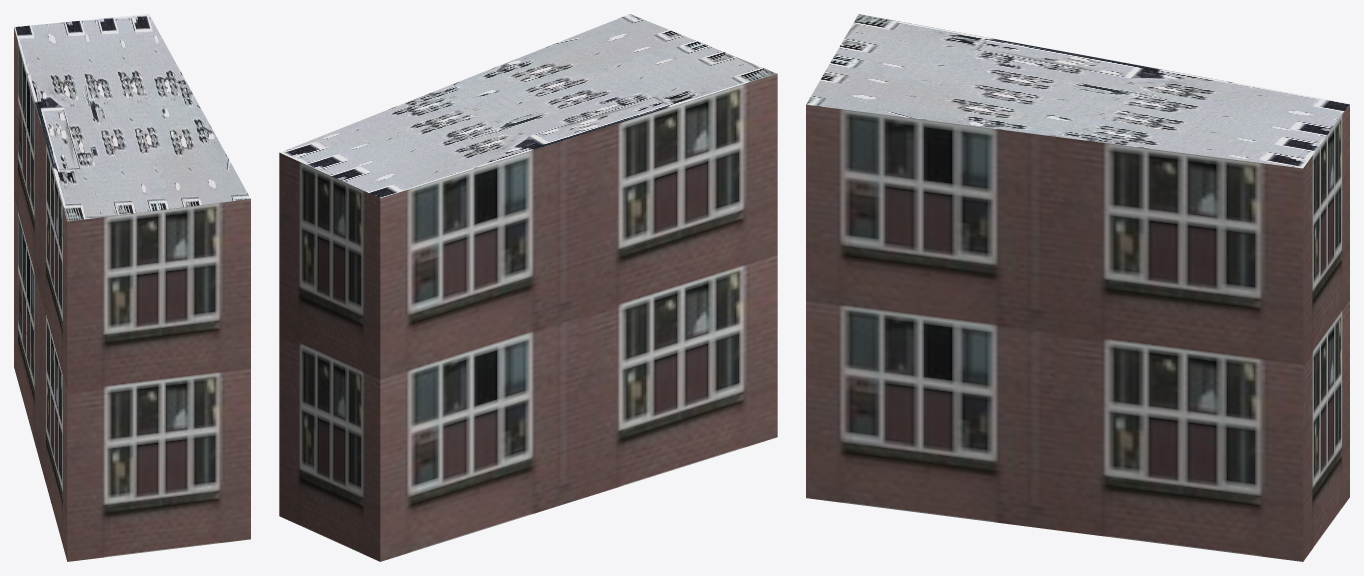
The model's file is ResTex__2630.fbx.
3 renders of one model, left to right at view 1: azimuth 30°, elevation 25°; view 2: azimuth 150°, elevation 25°; view 3: azimuth 270°, elevation 25°, orthographic. The views are drawn at different scales.
Parts seen in each view (by area): view 1: CityEngineMaterial_12_m, CityEngineMaterial_4_m; view 2: CityEngineMaterial_12_m, CityEngineMaterial_4_m; view 3: CityEngineMaterial_12_m, CityEngineMaterial_4_m.
Part boxes in pixels (x1=…): CityEngineMaterial_12_m: x1=14, y1=27, x2=250, y2=561; CityEngineMaterial_4_m: x1=14, y1=14, x2=250, y2=221; CityEngineMaterial_12_m: x1=279, y1=73, x2=777, y2=561; CityEngineMaterial_4_m: x1=280, y1=14, x2=776, y2=198; CityEngineMaterial_12_m: x1=806, y1=104, x2=1349, y2=561; CityEngineMaterial_4_m: x1=806, y1=14, x2=1349, y2=168.
Bounding box in the file's own units: 5.05 × 6 × 7.52.
Materials: 2 (2 with a texture image).
